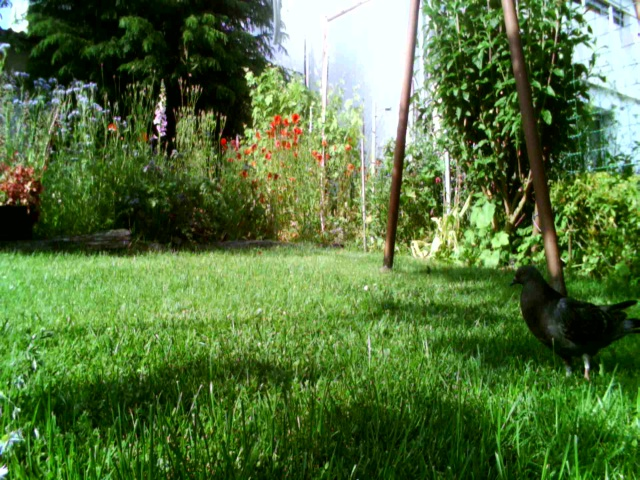Pigeon: (493, 260, 640, 384)
